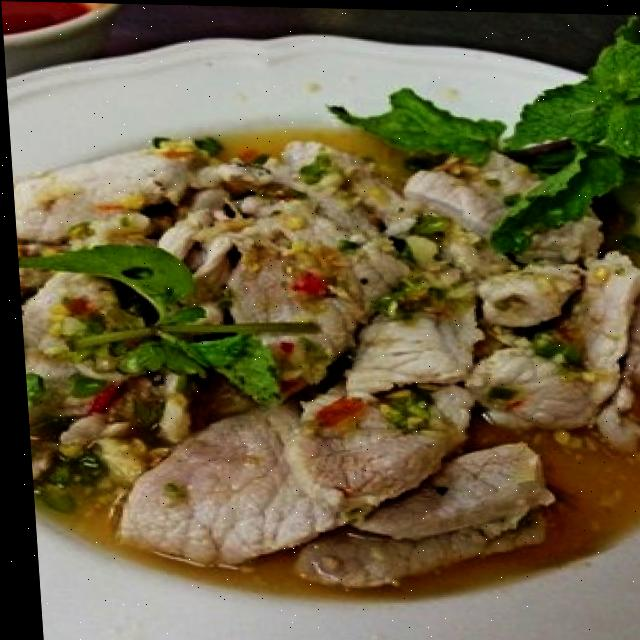猪肉菜式: (12, 5, 640, 619)
